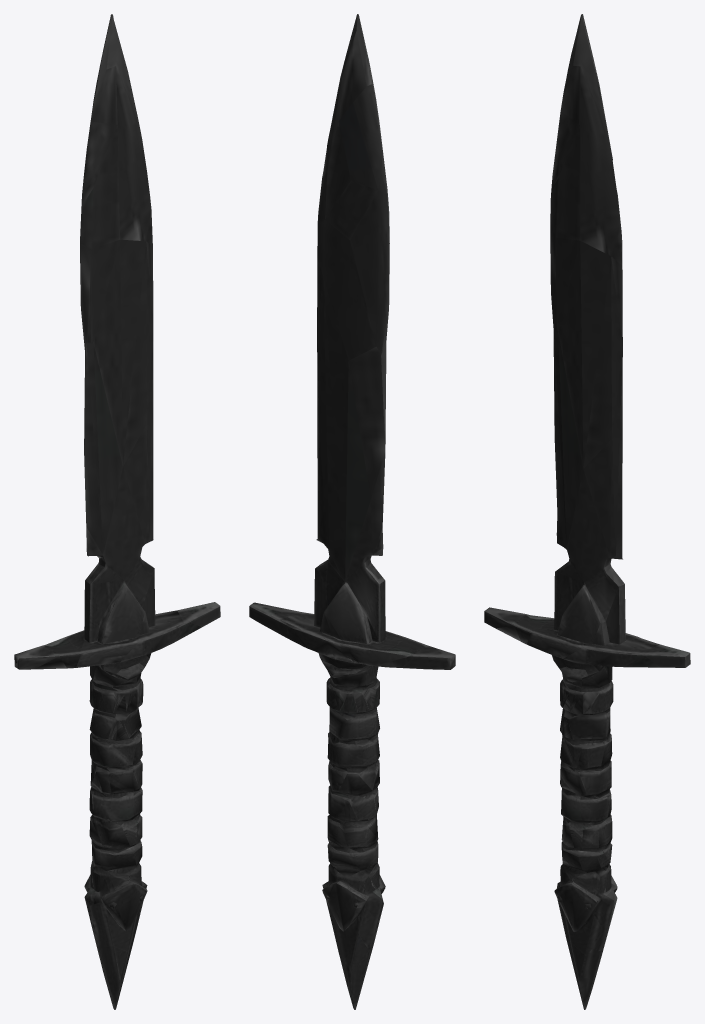
The model's file is weapon-dagger.glb.
The picture shows the model from 3 angles, left to right: view 1: azimuth 30°, elevation 25°; view 2: azimuth 150°, elevation 25°; view 3: azimuth 330°, elevation 25°; orthographic projection.
Size of the model in its own units: 0.0849 by 0.4006 by 0.024.
1 material, 1 textured.
